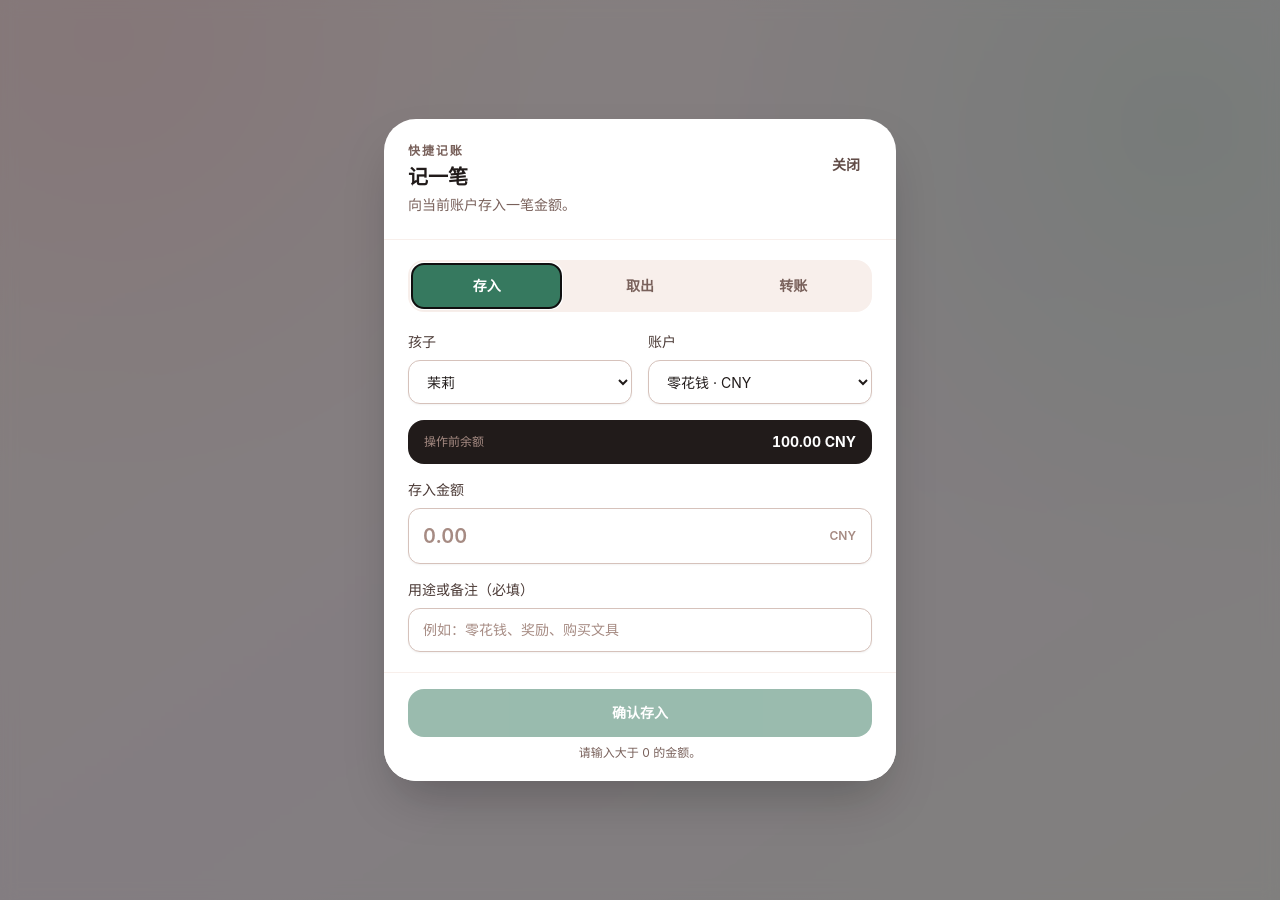
Test: LedgerEntry › retains input and restores controls when the service unexpectedly rejects
Type "20" into the number field labelled "存入金额" at (640, 536), box [408, 508, 872, 564]
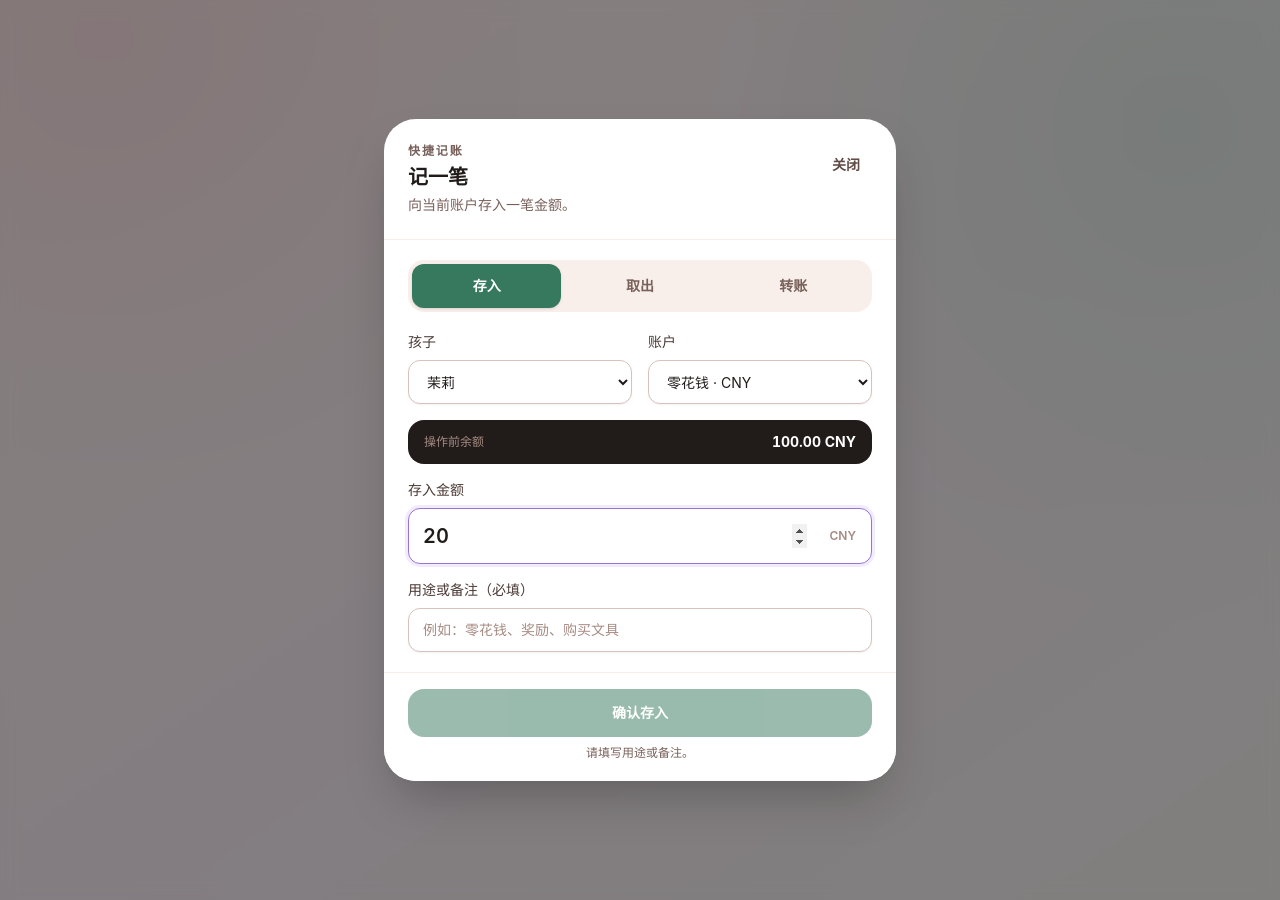
Type "奖励" into the field labelled "用途或备注（必填）" at (640, 630), box [408, 608, 872, 652]
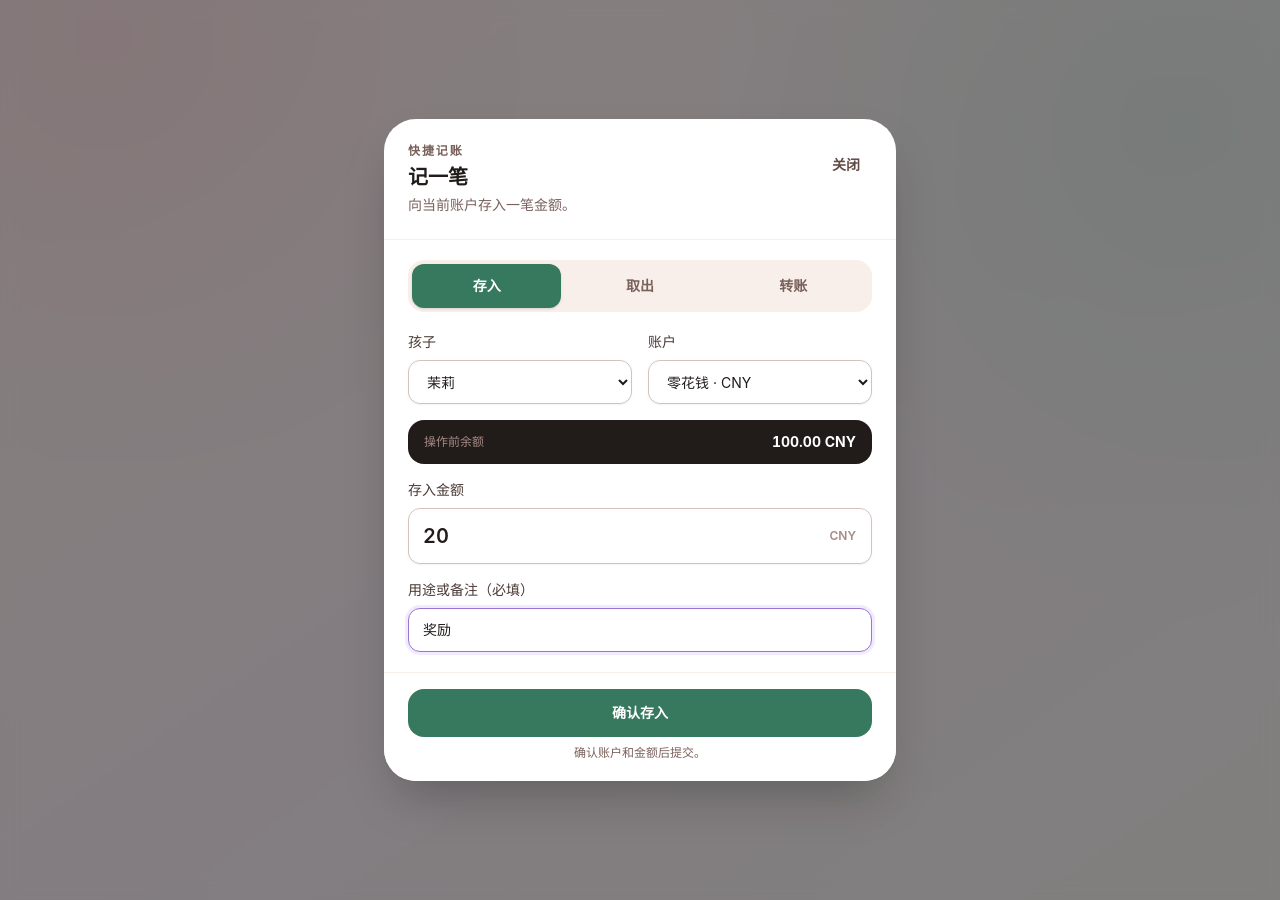
Click the button "确认存入" at (640, 713), box [408, 689, 872, 737]
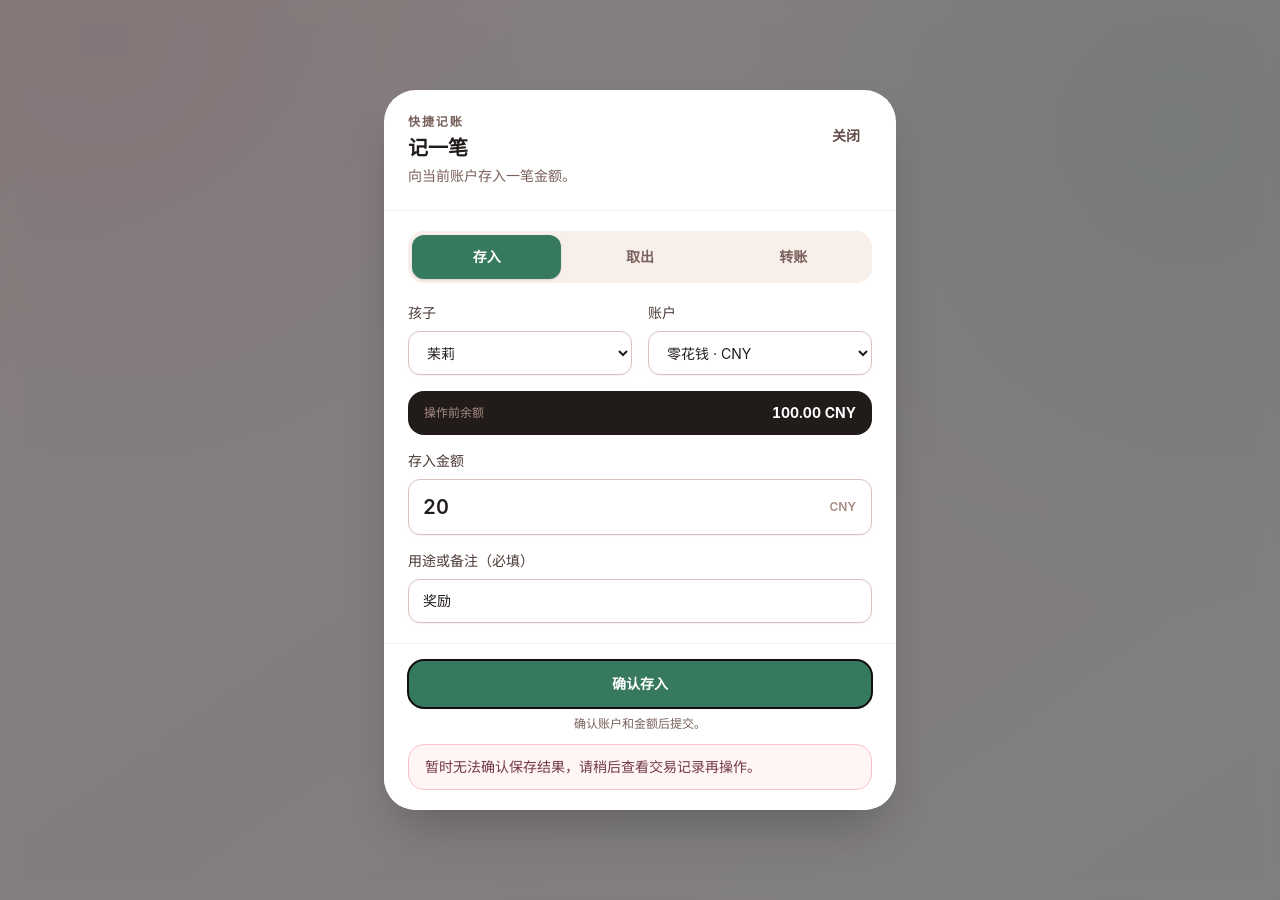
Expected: the button "关闭" is enabled, [820, 114, 872, 158]
Now the button "确认存入" is enabled, box [408, 660, 872, 708]
Now the message "暂时无法确认保存结果，请稍后查看交易记录再操作。" is shown, box [408, 744, 872, 790]
